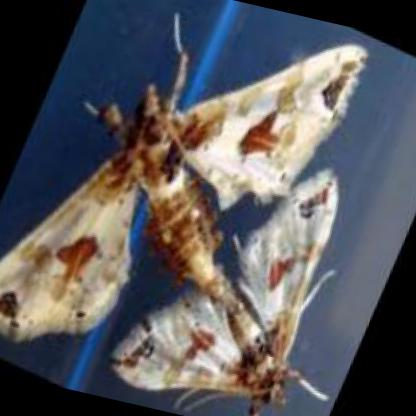leucinodes: (0, 45, 367, 337), (114, 169, 336, 416)
